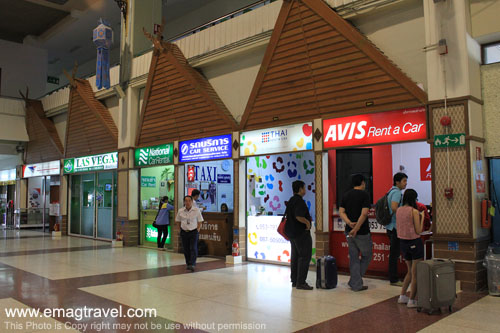backpack: (372, 191, 394, 226)
bag: (276, 214, 290, 241), (152, 219, 157, 227)
luggage: (417, 235, 459, 319), (316, 251, 338, 293)
people: (339, 171, 374, 294), (279, 177, 312, 292), (396, 185, 423, 308), (176, 193, 202, 273), (386, 168, 403, 289), (154, 193, 168, 250)
